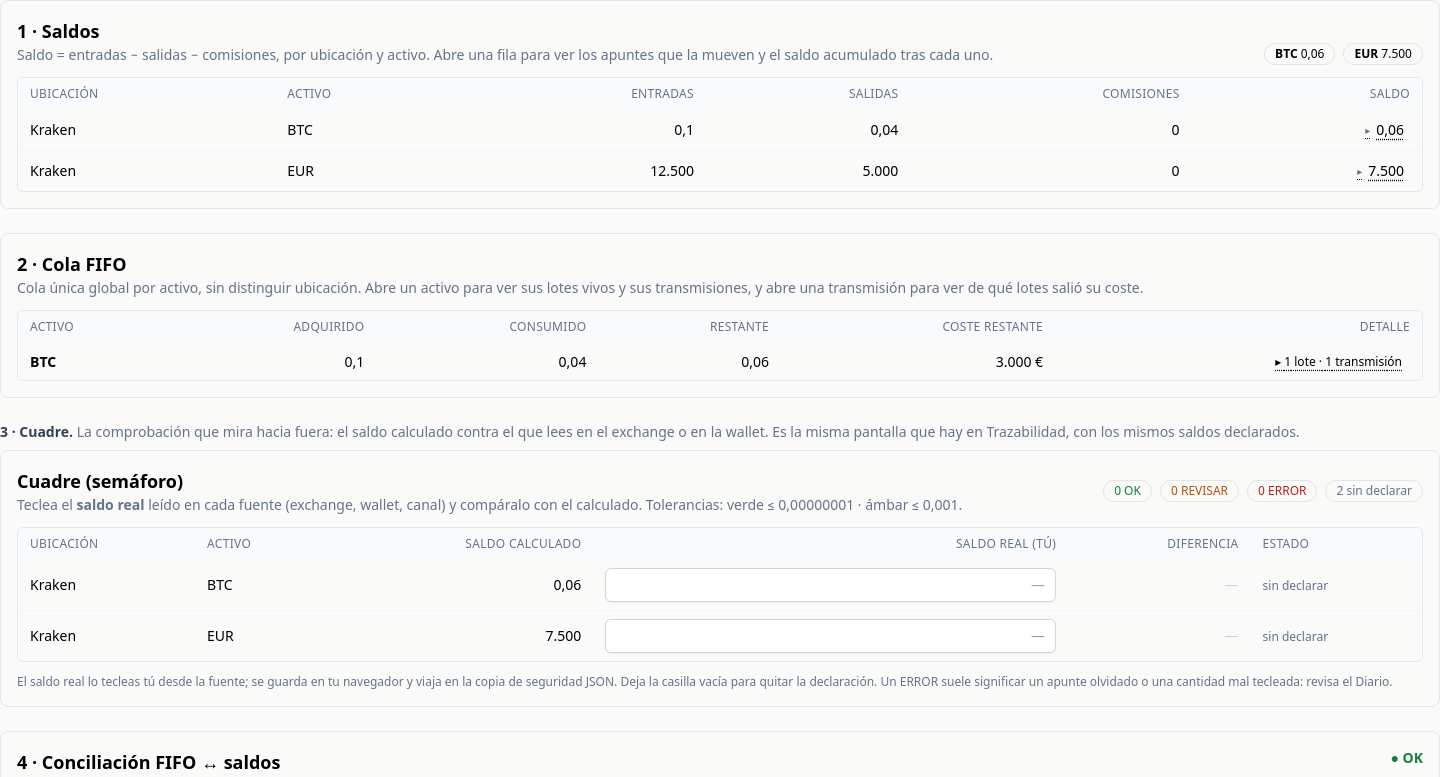
Test: Panel · pinchar una cifra y ver los apuntes que la componen › la cola FIFO de un activo despliega sus lotes vivos y sus transmisiones
The image size is (1440, 777).
Click the button with aria-label "Ver la cola FIFO de BTC" at (1339, 362), box [1267,352,1410,372]
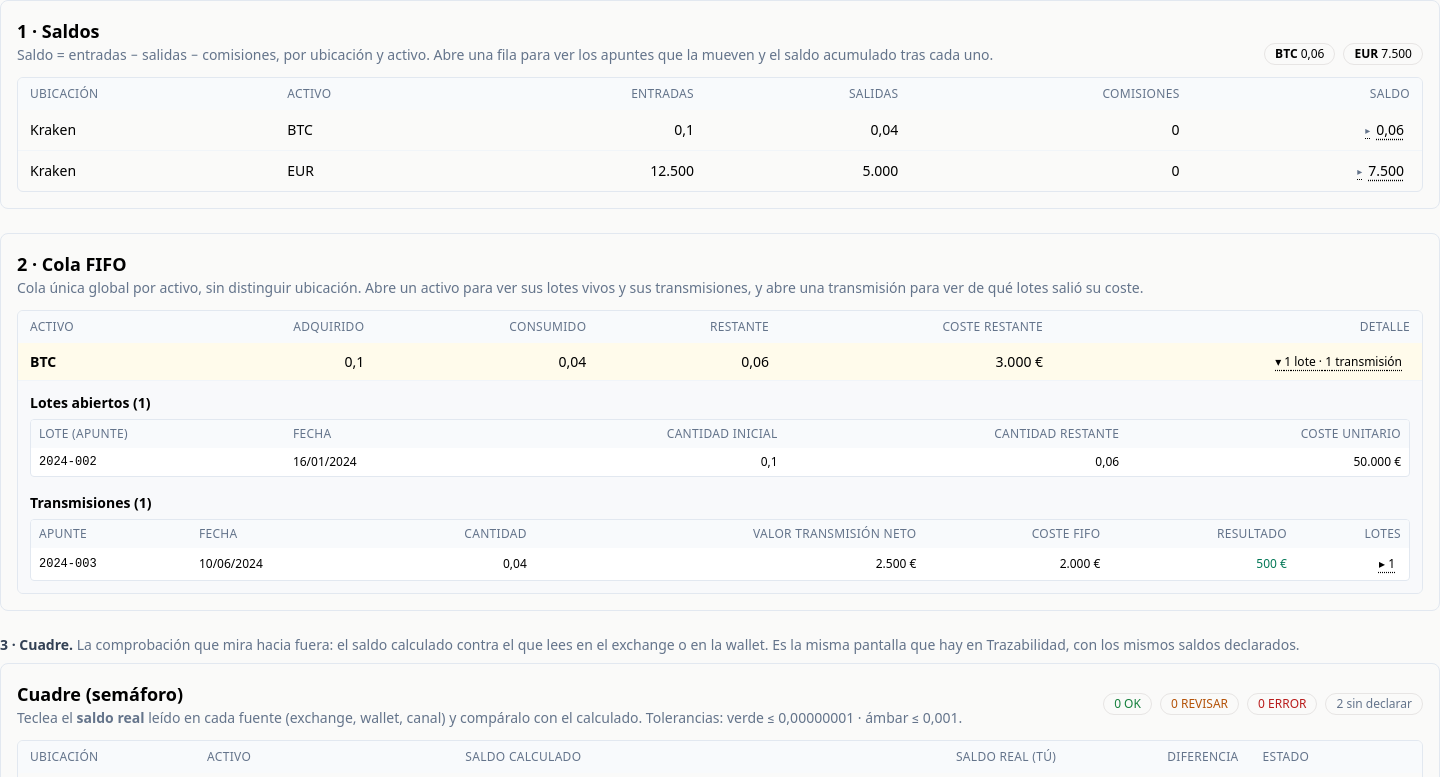
Check: the text "2024-002" is shown, box [31,448,285,476]
Check: the text "50.000 €" is shown, box [1127,448,1409,476]
Check: the row "2024-003 10/06/2024 0,04 2.500 € 2.000 € 500 € ▸ 1" is shown, box [31,548,1409,580]
